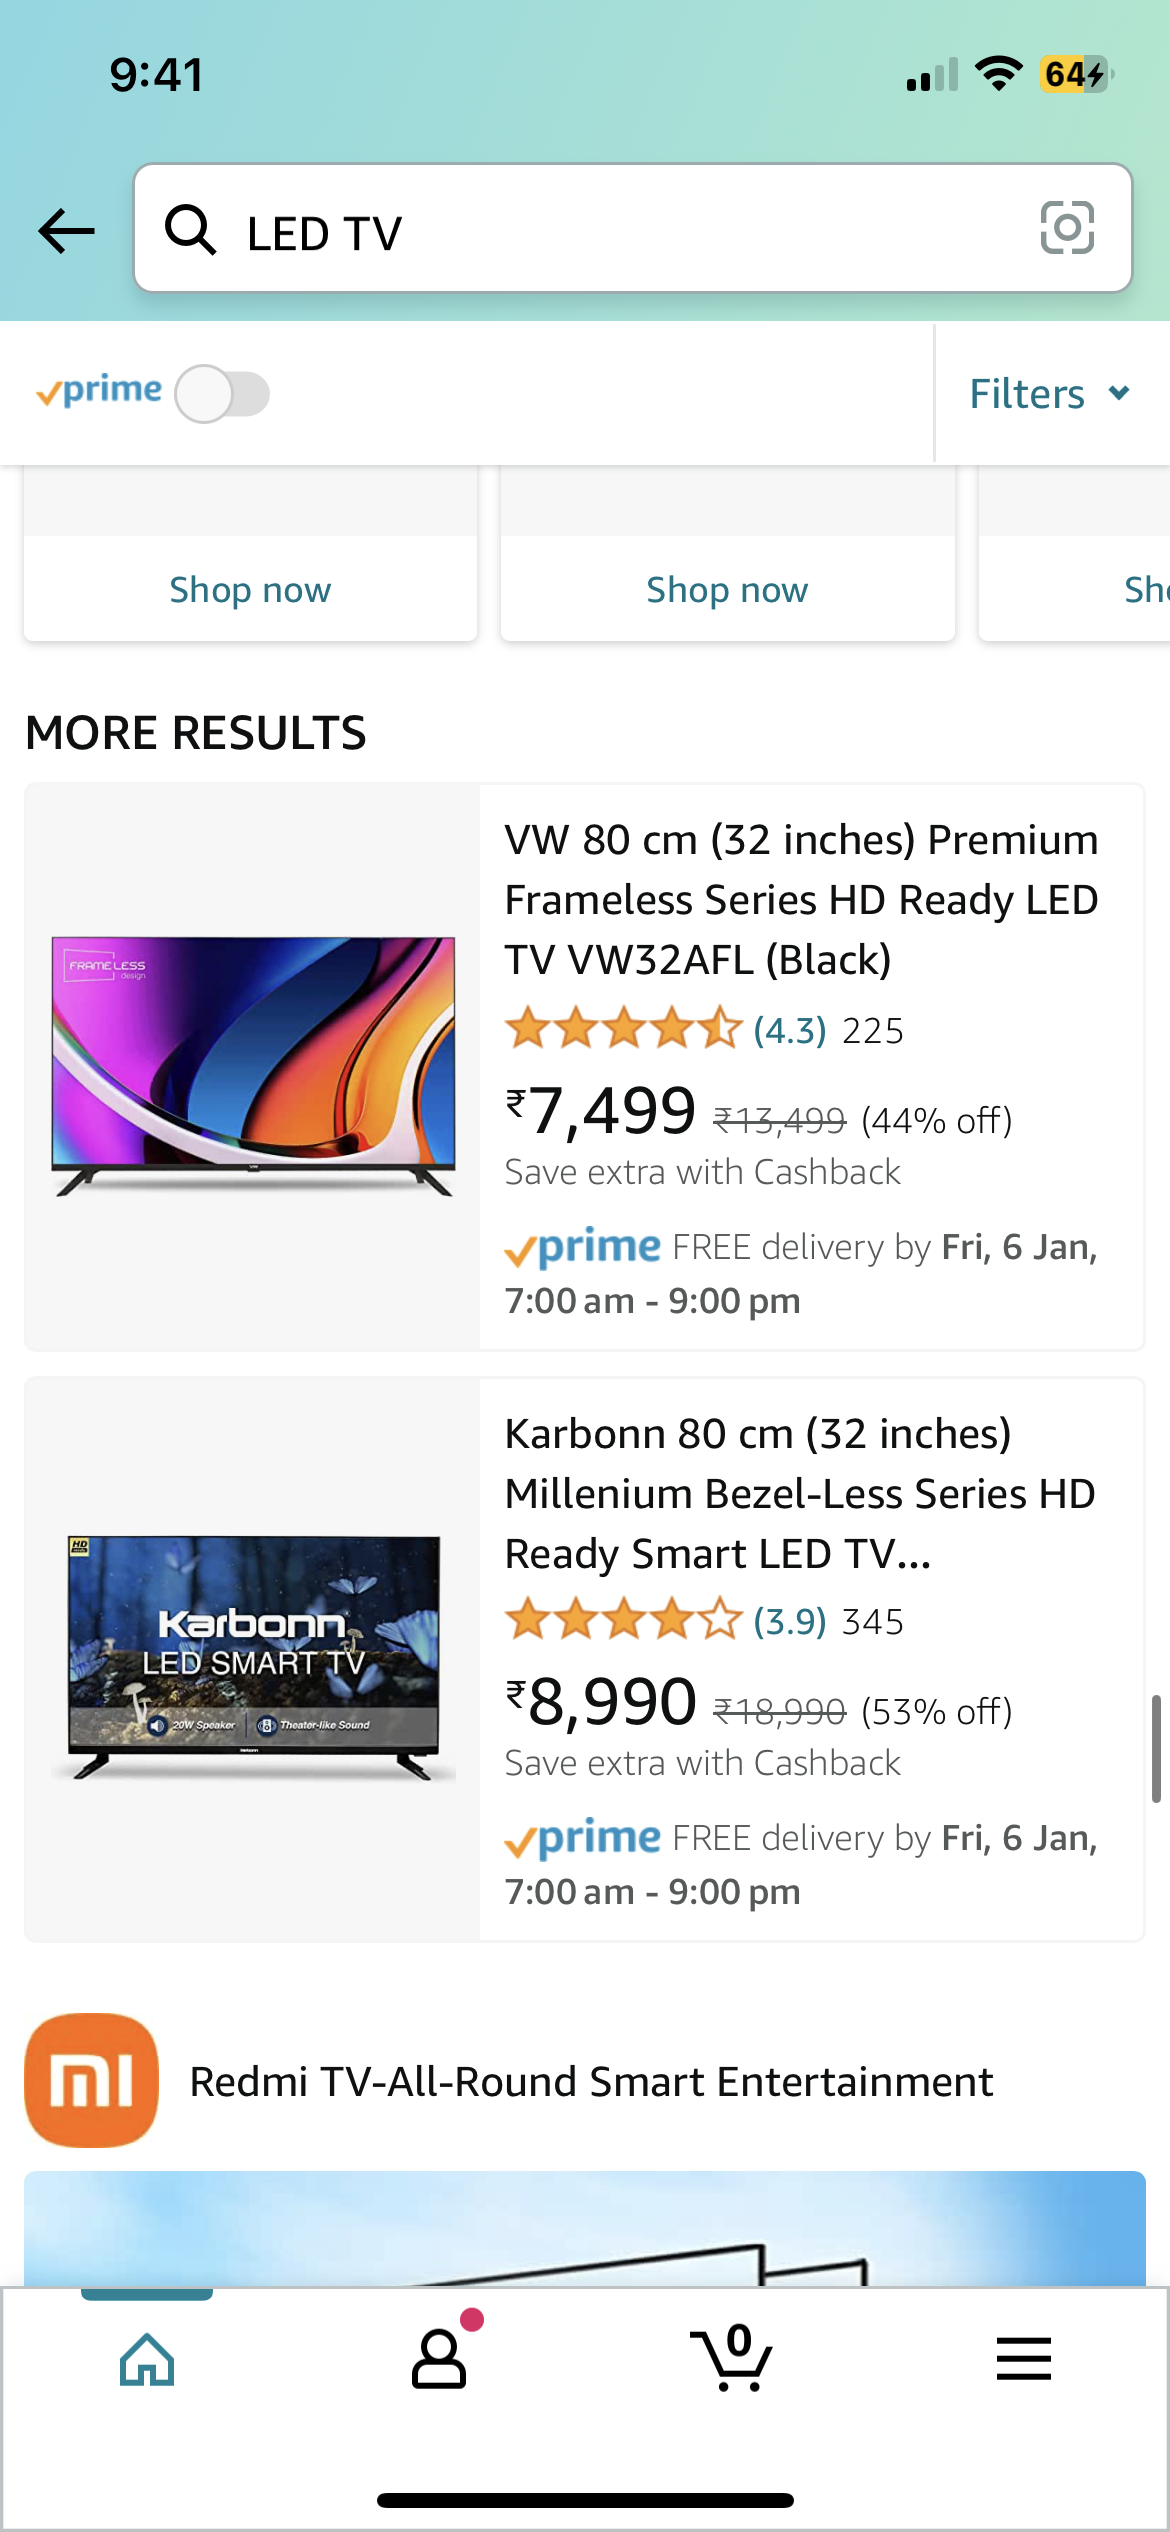LEDTV: (40, 920, 466, 1209), (52, 1524, 453, 1799)
